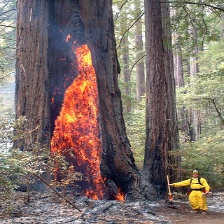fire: (59, 49, 126, 197)
